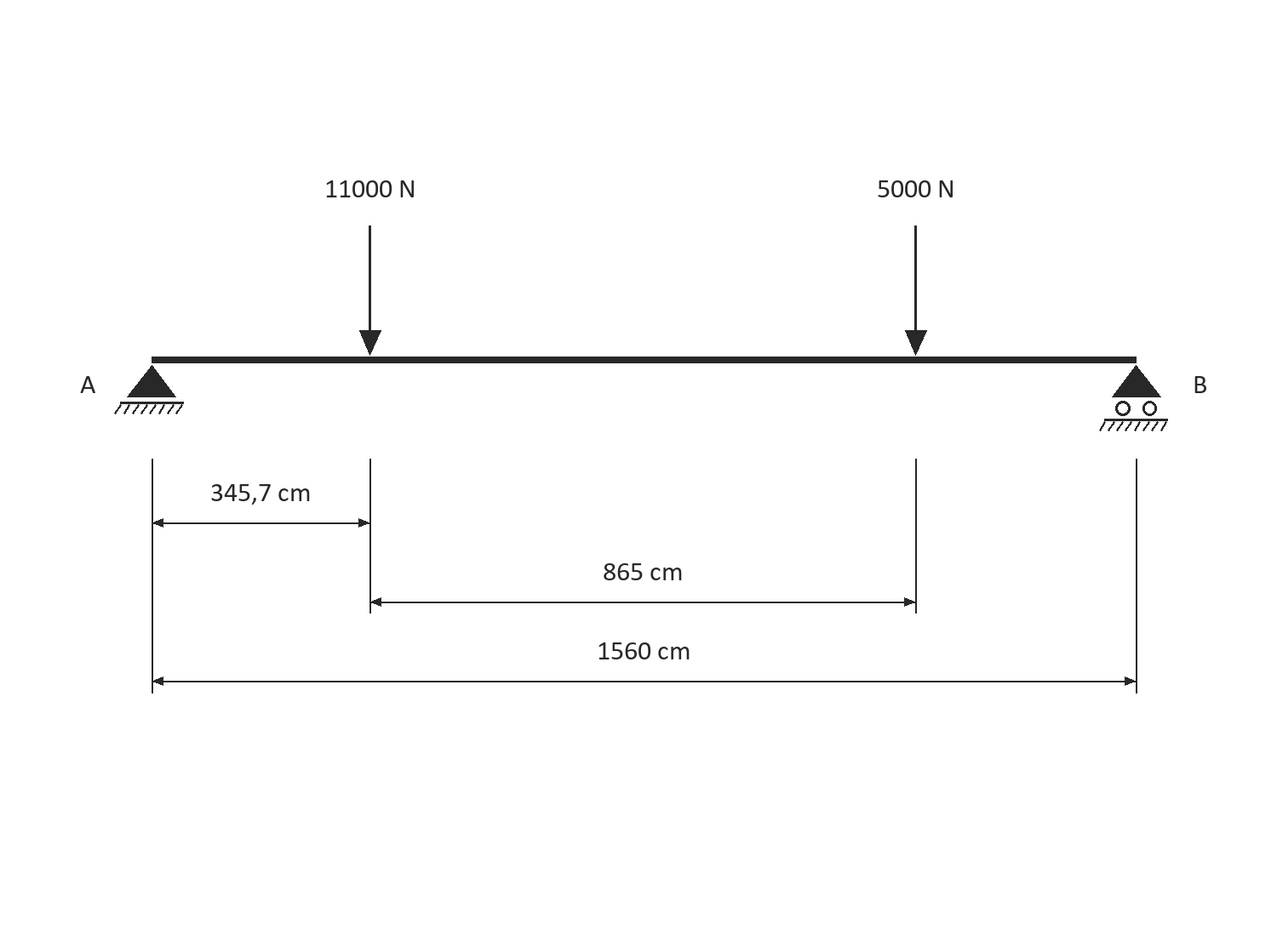pin_support: (114, 365, 184, 414)
point_load: (359, 225, 381, 356), (905, 225, 927, 356)
roller_support: (1099, 365, 1168, 431)
